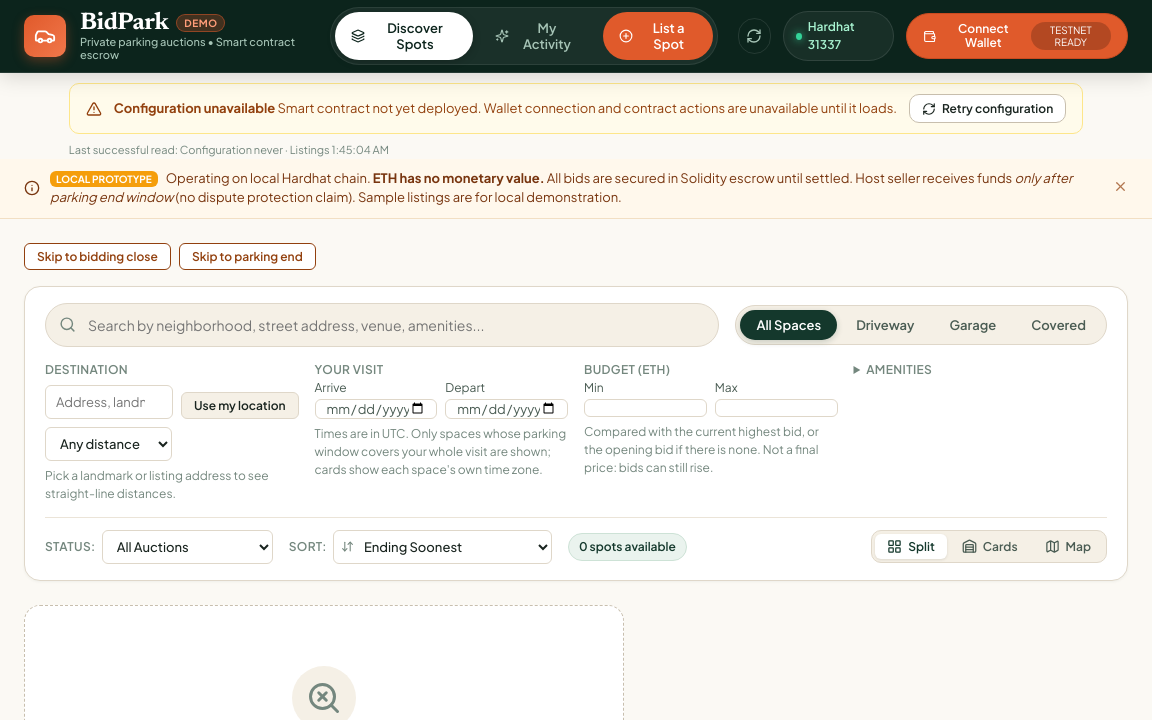
Scenario: configuration read status › shows an initial config failure, retries on demand and recovers the wallet
Click the button "Retry configuration": point(988, 108) [909,94,1066,123]
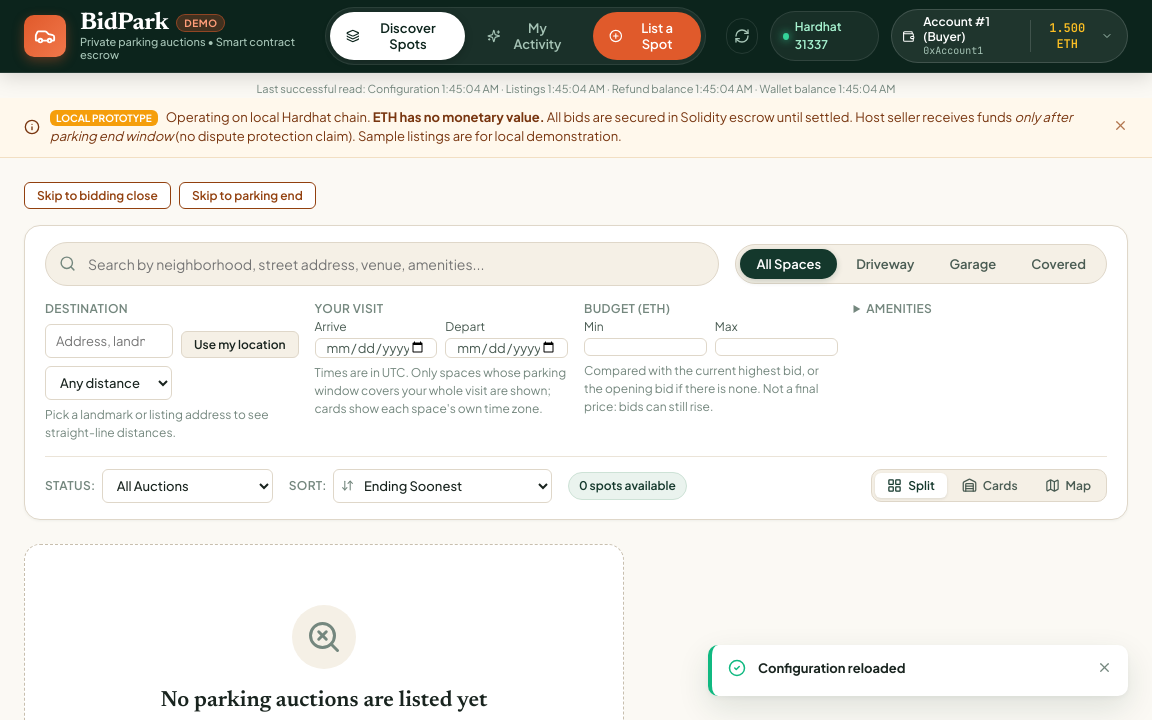
Now the text "Configuration unavailable" is gone
Now the text "Account #1" is shown, box [923,14,990,44]
Now the button with class "wallet-btn-balance" reads "1.500 ETH", box [1049,20,1085,52]
